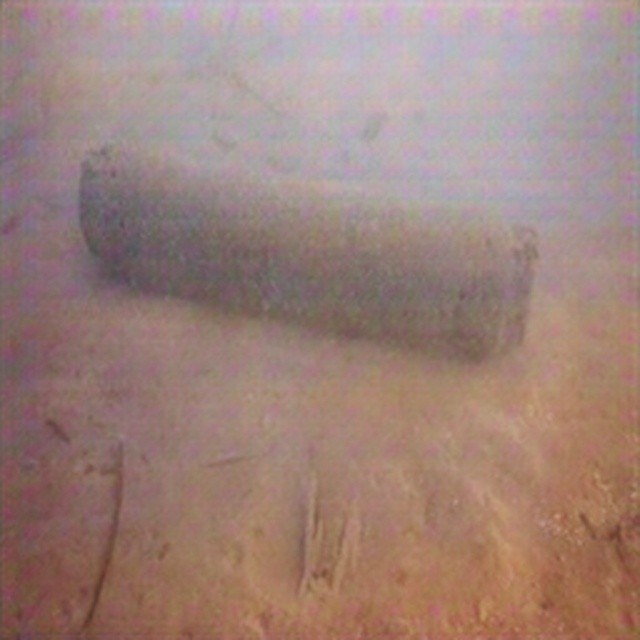mine: (78, 143, 538, 356)
